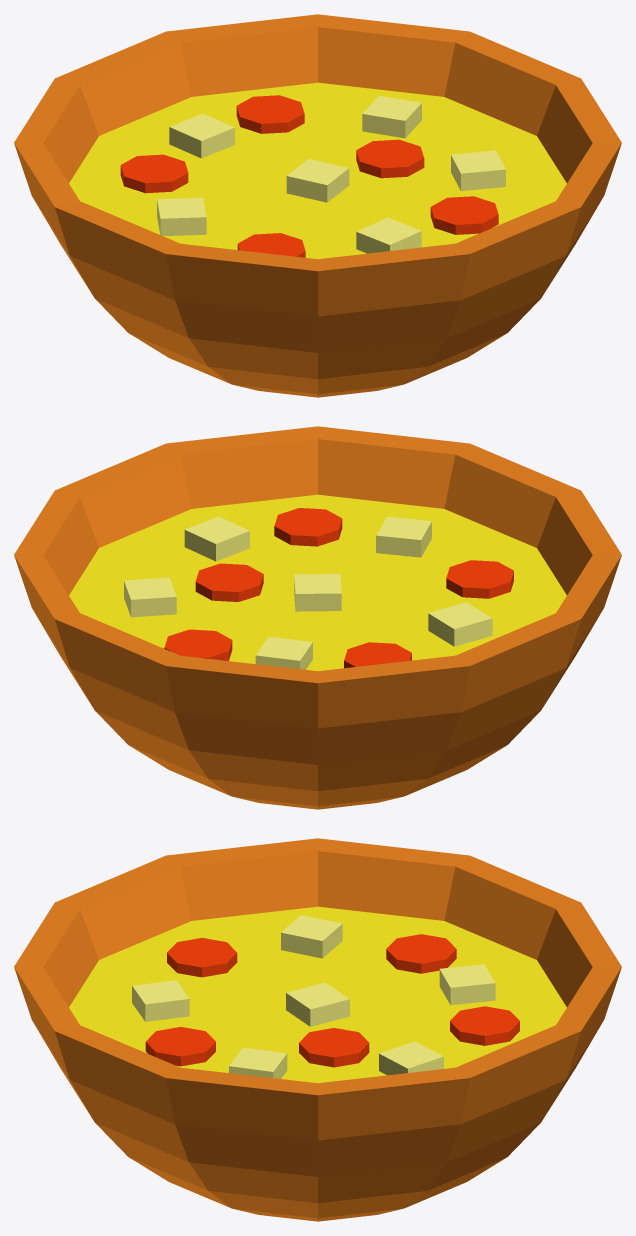
Rendered from Soap_Plate_07.fbx.
The picture shows the model from 3 angles, top to bottom: view 1: azimuth 30°, elevation 25°; view 2: azimuth 150°, elevation 25°; view 3: azimuth 270°, elevation 25°; orthographic projection.
Visible parts, largest first — view 1: Soap_Plate_07_LOD0; view 2: Soap_Plate_07_LOD0; view 3: Soap_Plate_07_LOD0.
Part boxes in pixels (x1,y1,x2,y2): Soap_Plate_07_LOD0: (14,14,621,397); Soap_Plate_07_LOD0: (14,426,621,809); Soap_Plate_07_LOD0: (14,838,621,1221).
Size of what is drawn, in the model's own units: 0.2799 by 0.1149 by 0.2799.
